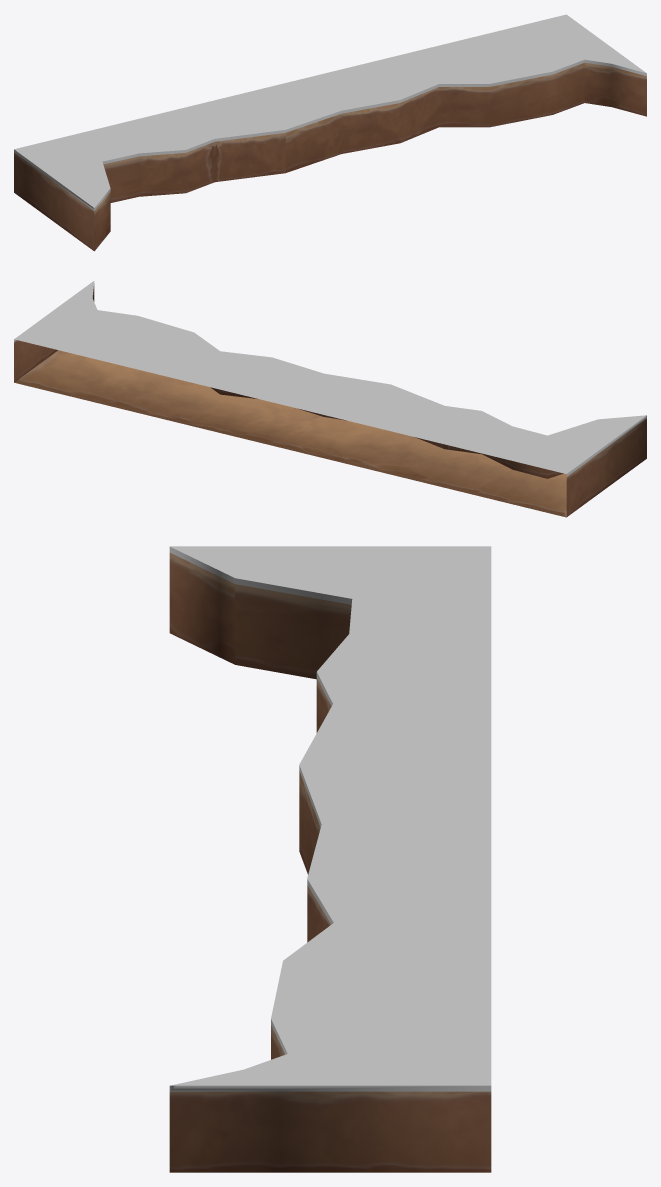
Rendered from SM_Floor_Broken_01.V1.fbx.
The picture shows the model from 3 angles, top to bottom: view 1: azimuth 30°, elevation 25°; view 2: azimuth 150°, elevation 25°; view 3: azimuth 270°, elevation 25°; orthographic projection. The views are drawn at different scales.
Visible parts, largest first — view 1: SM_Floor_Broken_01.V1; view 2: SM_Floor_Broken_01.V1; view 3: SM_Floor_Broken_01.V1.
Part boxes in pixels (left/top/right/bottom): SM_Floor_Broken_01.V1: left=14, top=14, right=646, bottom=251; SM_Floor_Broken_01.V1: left=14, top=281, right=646, bottom=517; SM_Floor_Broken_01.V1: left=169, top=546, right=491, bottom=1172.
Bounding box in the file's own units: 400 × 30 × 101.
